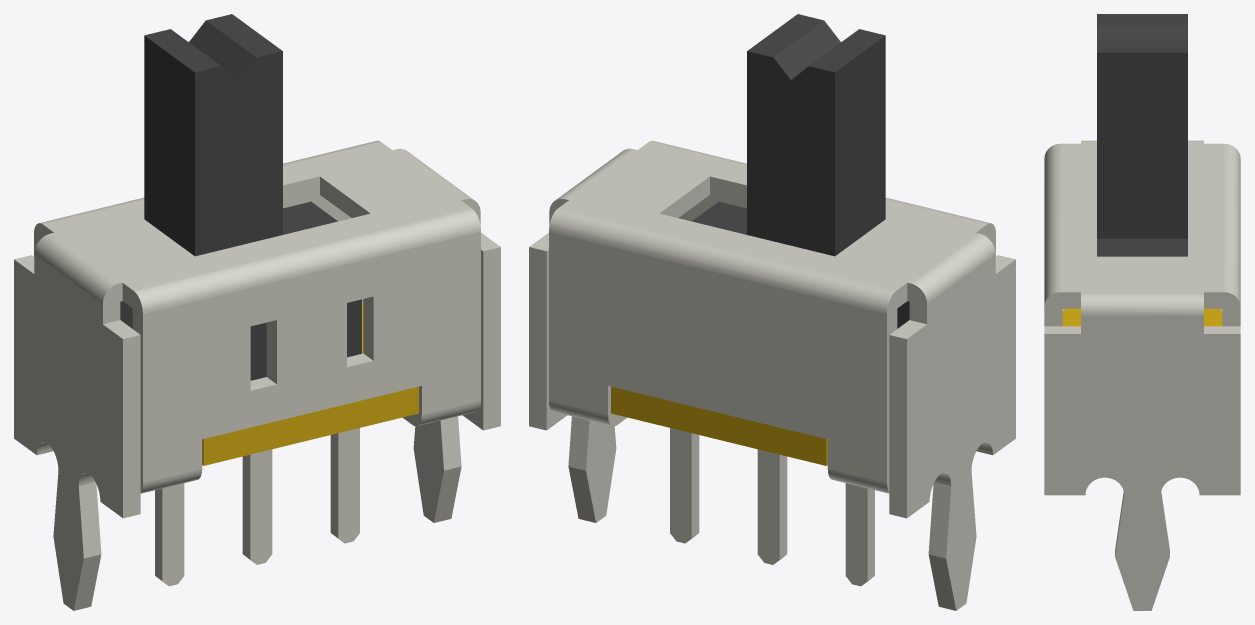
The model's file is slide-switch.glb.
3 renders of one model, left to right at view 1: azimuth 30°, elevation 25°; view 2: azimuth 150°, elevation 25°; view 3: azimuth 270°, elevation 25°, orthographic. The views are drawn at different scales.
Visible parts, largest first — view 1: slide-switch-1, slide-switch-6, slide-switch-2, slide-switch-3, slide-switch-4, slide-switch-5; view 2: slide-switch-1, slide-switch-6, slide-switch-2, slide-switch-3, slide-switch-4, slide-switch-5; view 3: slide-switch-1, slide-switch-6, slide-switch-2.
Boxes of the visible parts, x1,y1,x2,y2 form: slide-switch-1: [14, 140, 500, 610]; slide-switch-6: [120, 14, 361, 380]; slide-switch-2: [202, 304, 418, 465]; slide-switch-3: [242, 449, 272, 564]; slide-switch-4: [330, 428, 359, 543]; slide-switch-5: [155, 483, 184, 586]; slide-switch-1: [529, 140, 1015, 610]; slide-switch-6: [692, 14, 909, 328]; slide-switch-2: [611, 386, 827, 465]; slide-switch-3: [757, 449, 787, 564]; slide-switch-4: [670, 428, 699, 543]; slide-switch-5: [845, 483, 874, 586]; slide-switch-1: [1044, 140, 1240, 610]; slide-switch-6: [1097, 14, 1187, 256]; slide-switch-2: [1062, 308, 1222, 326].
Bounding box in the file's own units: 0.0086 × 0.0115 × 0.0043.
